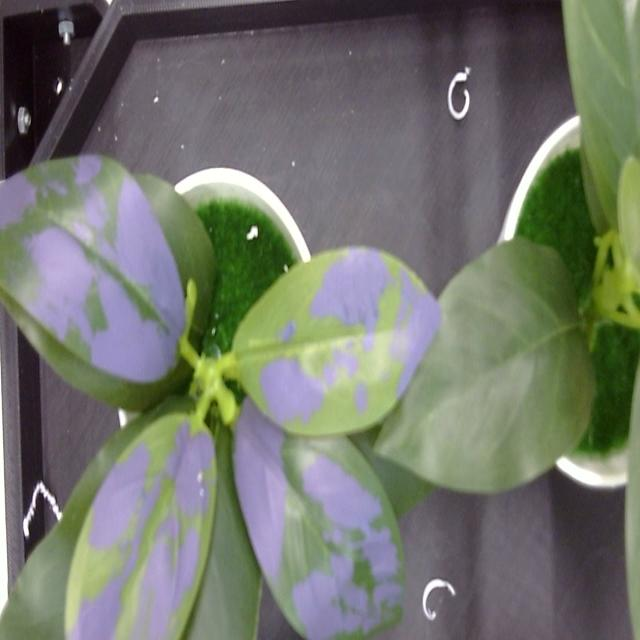Green: (375, 237, 595, 492), (0, 429, 138, 639), (183, 421, 262, 639), (564, 0, 640, 225)
Purple: (0, 155, 214, 412), (232, 248, 440, 436), (234, 425, 404, 639), (64, 412, 217, 639)
